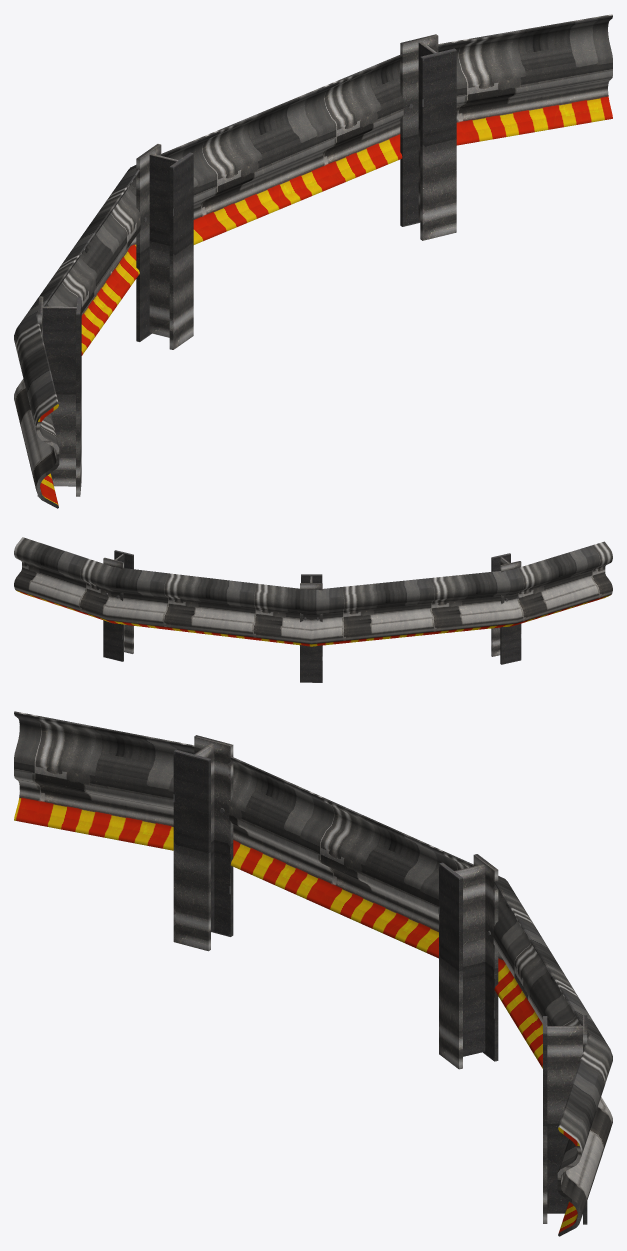
The model's file is Rail 13.FBX.
3 renders of one model, top to bottom at view 1: azimuth 30°, elevation 25°; view 2: azimuth 150°, elevation 25°; view 3: azimuth 270°, elevation 25°, orthographic. The views are drawn at different scales.
Visible parts, largest first — view 1: guardrail_small_90deg_out; view 2: guardrail_small_90deg_out; view 3: guardrail_small_90deg_out.
Part boxes in pixels (left/top/right/bottom): guardrail_small_90deg_out: left=14, top=14, right=612, bottom=508; guardrail_small_90deg_out: left=14, top=537, right=612, bottom=682; guardrail_small_90deg_out: left=14, top=711, right=612, bottom=1236.
Bounding box in the file's own units: 485 × 101 × 287.
